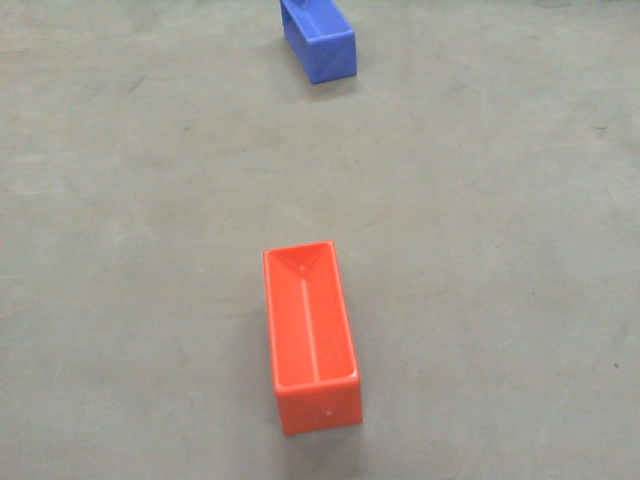BlueSample: (281, 1, 362, 87)
RedSample: (259, 238, 368, 437)
